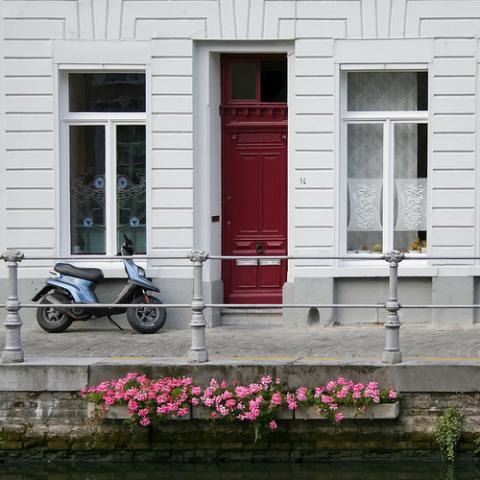motorcycle: (34, 260, 167, 334)
